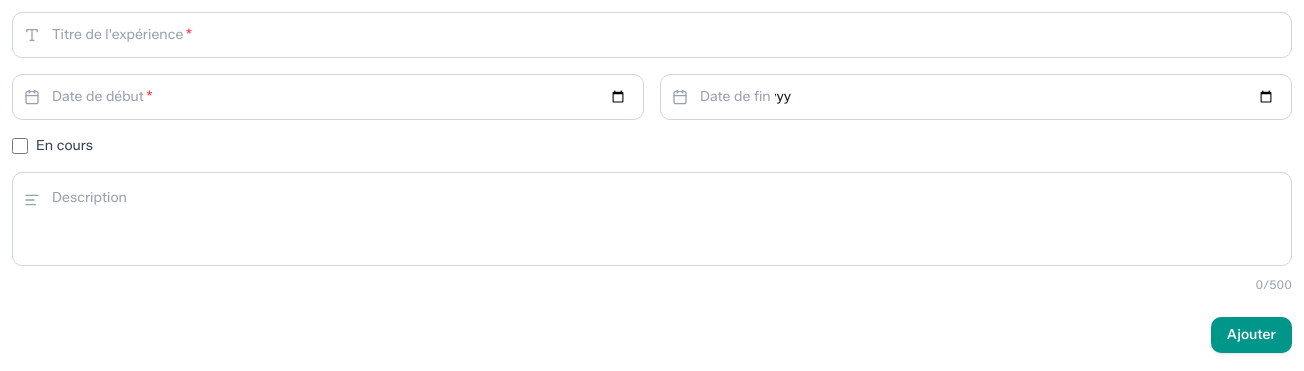
it: ExperienceForm › character counter › displays character count for description
Note: After typing
Type "Test text" into the text box with test id "description-input" at [652, 219], box [12,172,1292,266]
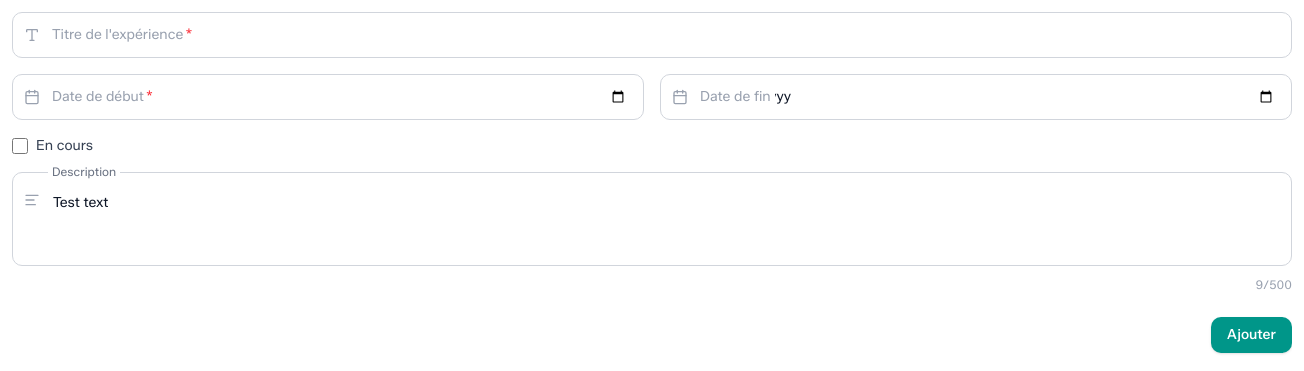
Now the text "9/500" is shown, box [1256,277,1292,293]
